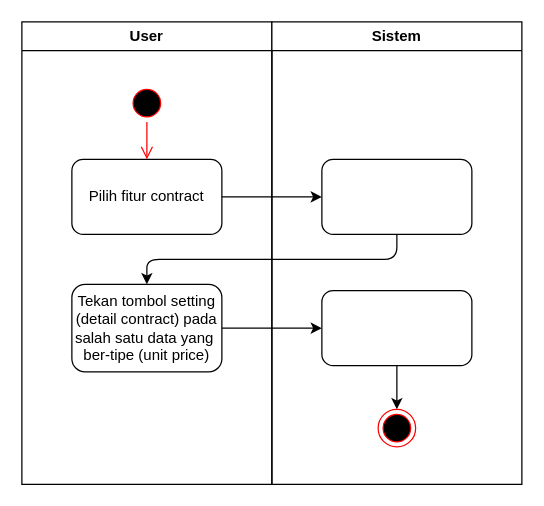
Image size: 544x506. Some labels were removed from this diagram. Each missing label, with the box of its shape:
Menampilkan detail contract beserta SPK-nya: (321, 289, 472, 366)
Menampilkan halaman Contract: (321, 158, 472, 234)
